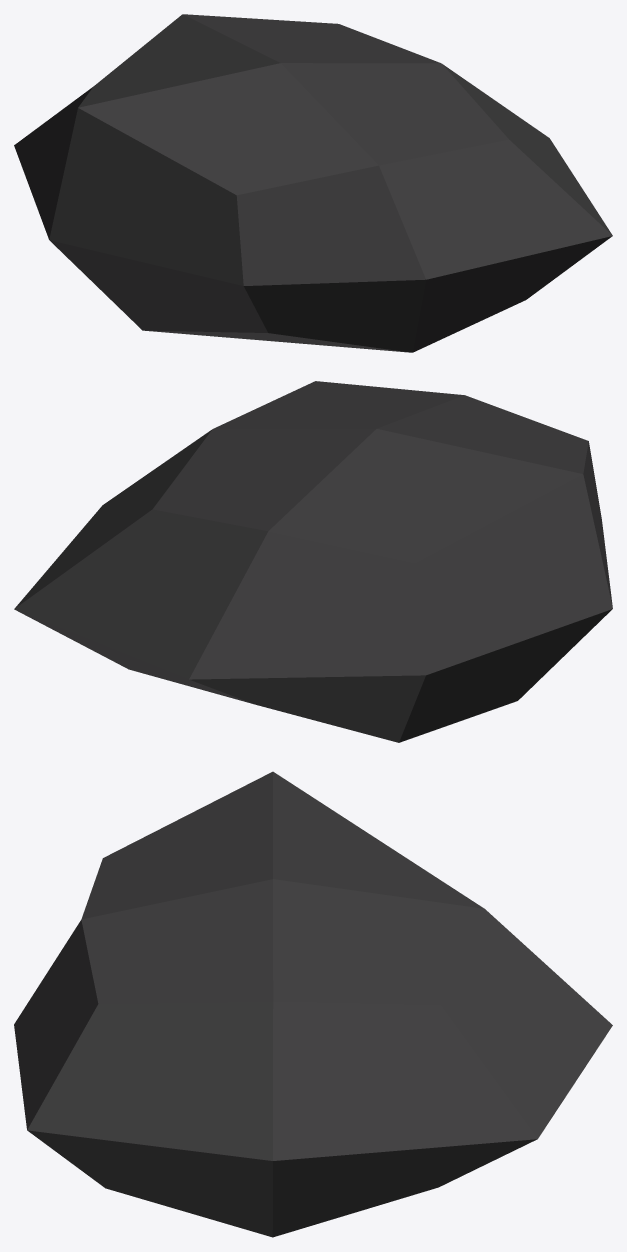
The model's file is 3DObj_stone_v3.fbx.
The picture shows the model from 3 angles, top to bottom: view 1: azimuth 30°, elevation 25°; view 2: azimuth 150°, elevation 25°; view 3: azimuth 270°, elevation 25°; orthographic projection. The views are drawn at different scales.
Visible parts, largest first — view 1: 3DObj_stone_v3; view 2: 3DObj_stone_v3; view 3: 3DObj_stone_v3.
Part boxes in pixels (x1,y1,x2,y2): 3DObj_stone_v3: (14, 14, 612, 352); 3DObj_stone_v3: (14, 381, 612, 742); 3DObj_stone_v3: (14, 771, 612, 1237).
Bounding box in the file's own units: 31.61 × 16.46 × 31.58.
1 material, 1 textured.
